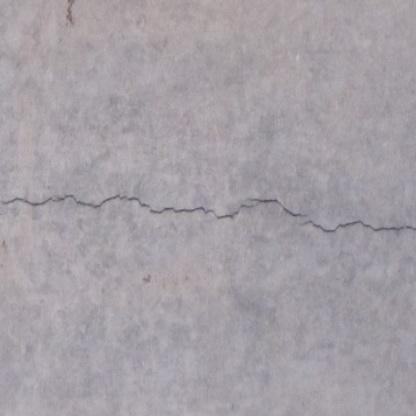Cracks: (0, 192, 416, 238)
